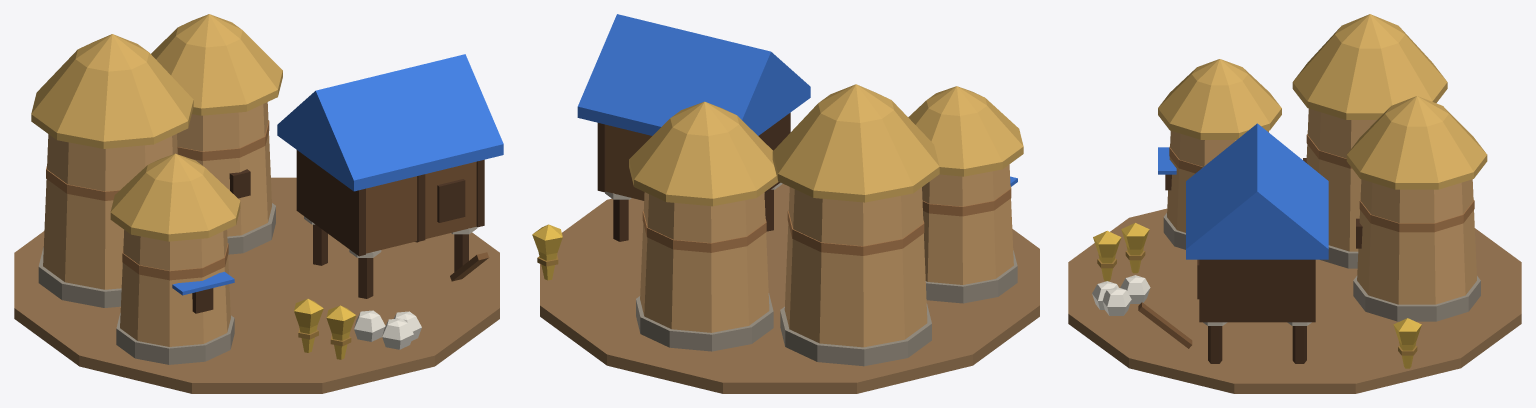
File: bld_granary.glb
The picture shows the model from 3 angles, left to right: view 1: azimuth 30°, elevation 25°; view 2: azimuth 150°, elevation 25°; view 3: azimuth 270°, elevation 25°; orthographic projection. The views are drawn at different scales.
Visible parts, largest first — view 1: bld_granary; view 2: bld_granary; view 3: bld_granary.
Part boxes in pixels (<box>): bld_granary: <box>14,14,503,393</box>; bld_granary: <box>532,14,1039,393</box>; bld_granary: <box>1068,14,1521,393</box>.
Bounding box in the file's own units: 0.483 × 0.278 × 0.483.
